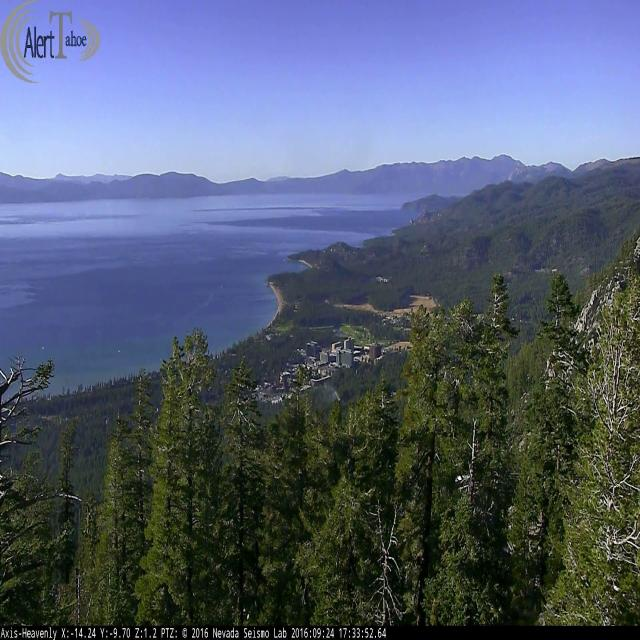smoke: (322, 384, 340, 405)
